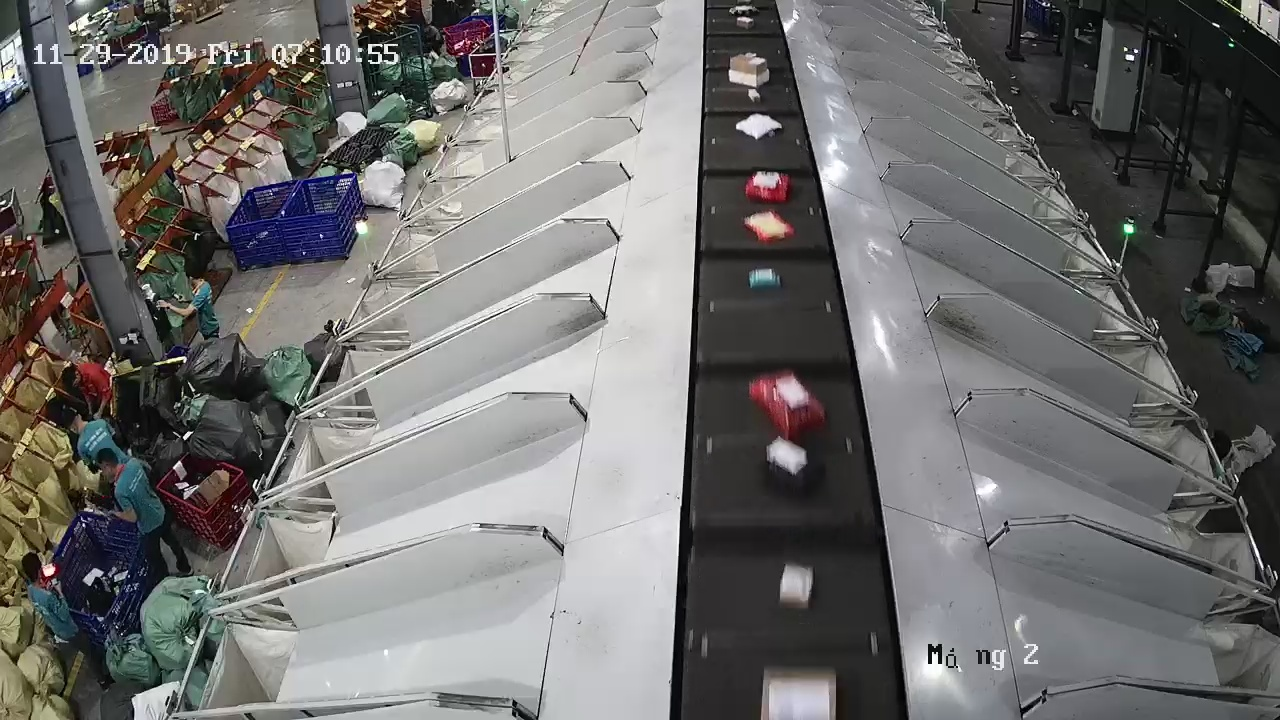parcel: (743, 209, 795, 244), (778, 563, 814, 608), (748, 268, 782, 289)
